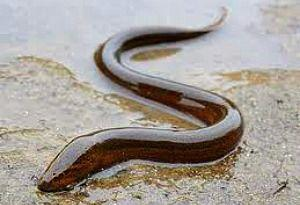Freshwater Eel: (33, 4, 245, 195)
